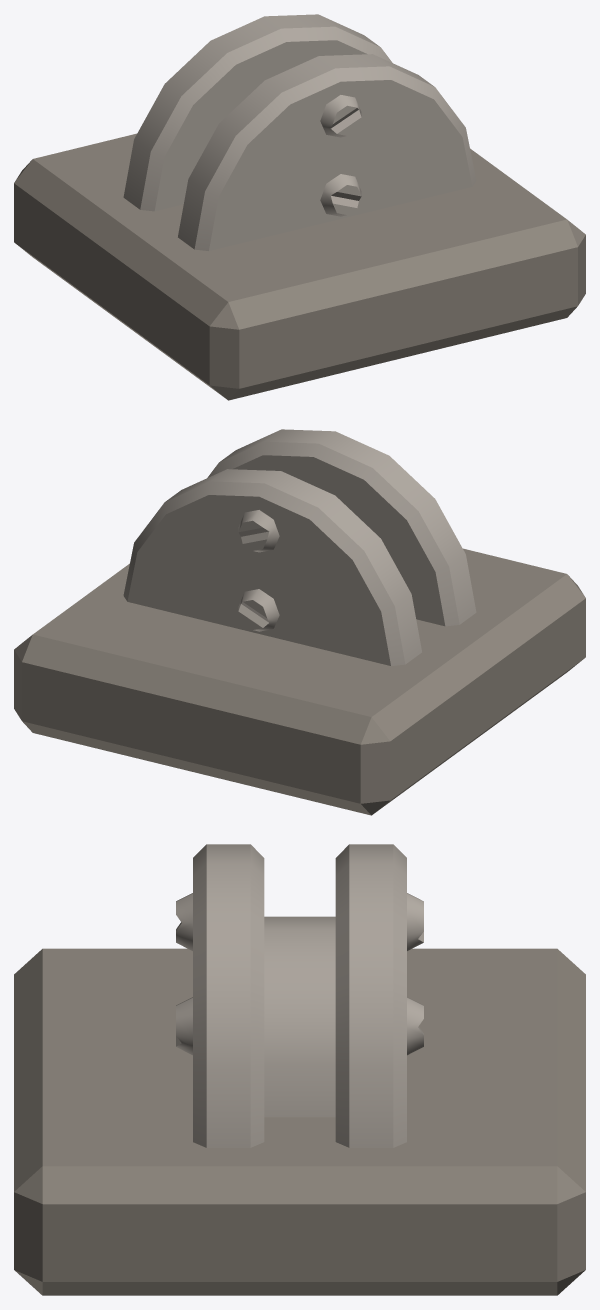
The model's file is m_dec_dung_lever_body.fbx.
3 renders of one model, top to bottom at view 1: azimuth 30°, elevation 25°; view 2: azimuth 150°, elevation 25°; view 3: azimuth 270°, elevation 25°, orthographic. The views are drawn at different scales.
Parts seen in each view (by area): view 1: m_dec_dung_lever_body; view 2: m_dec_dung_lever_body; view 3: m_dec_dung_lever_body.
Part boxes in pixels (x1,y1,x2,y2): m_dec_dung_lever_body: (14, 14, 585, 400); m_dec_dung_lever_body: (14, 429, 585, 815); m_dec_dung_lever_body: (14, 844, 585, 1295).
Bounding box in the file's own units: 2 × 1.25 × 2.
